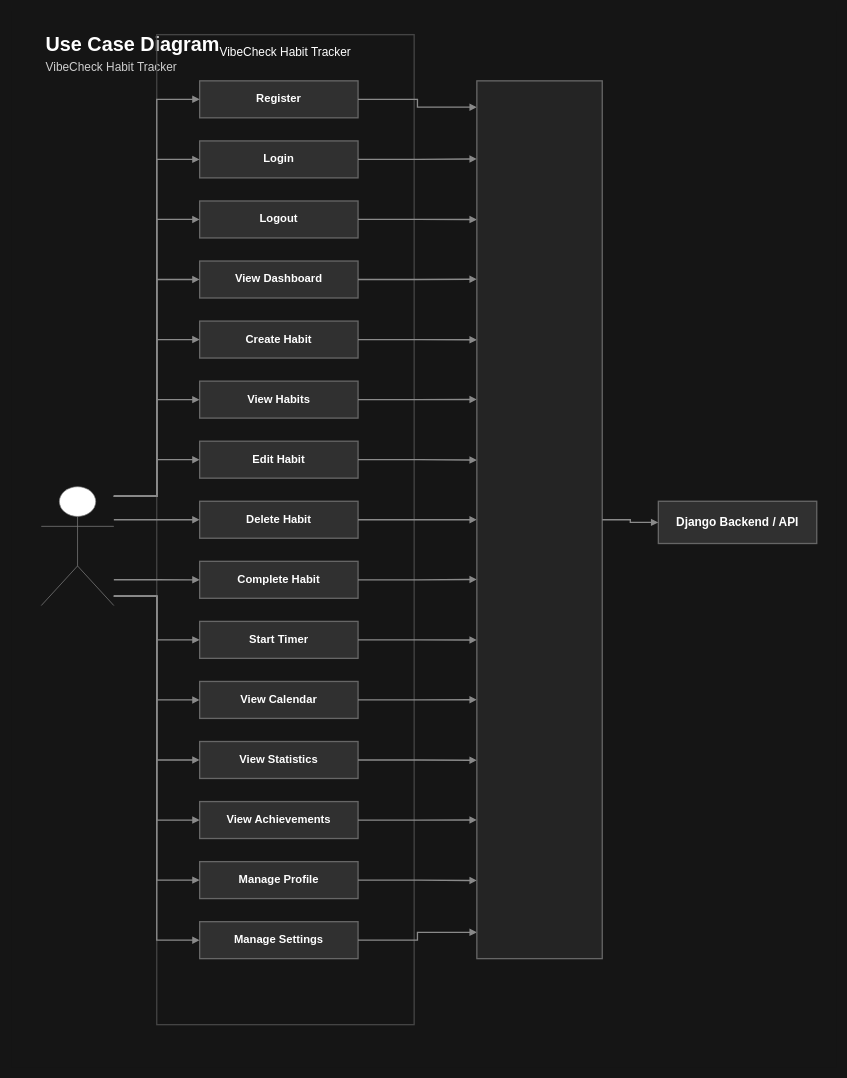
This 847x1078 diagram has some shape labels left out. Each missing label, with the centre of its shape:
"User" belongs at point (77, 546).
"VibeCheck System" belongs at point (539, 519).
